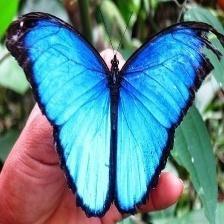butterfly: (7, 13, 224, 216)
